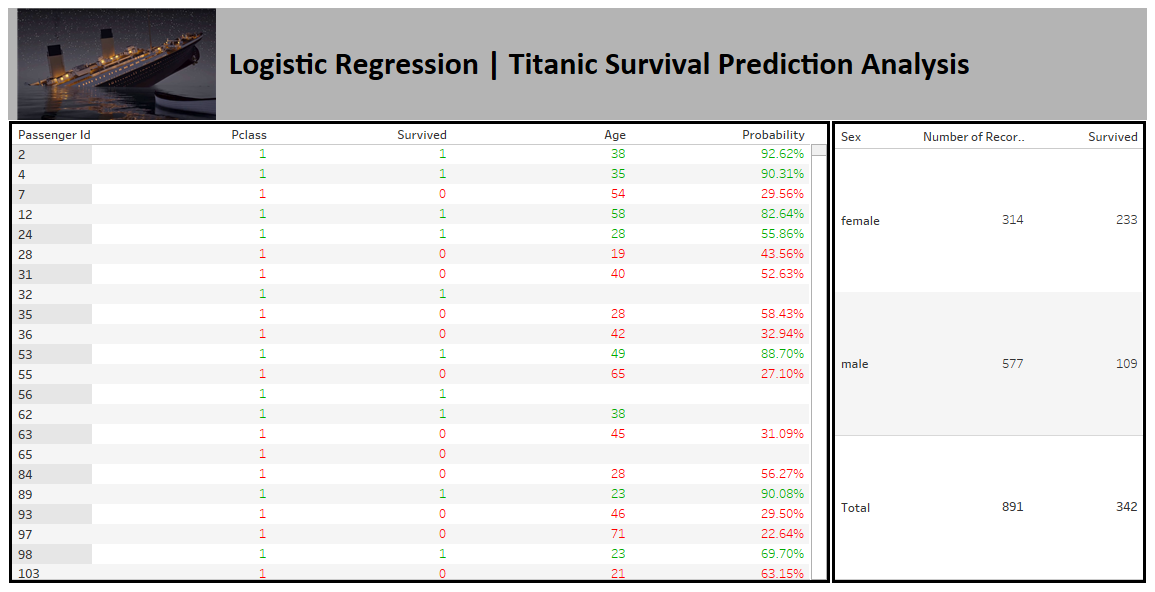

This screenshot's page, from the dashboard's own definition file:
{"tool":"tableau","page":{"name":"Logistic Regression","canvas":[1000,1000],"units":"permille","ordinal":0},"visuals":[{"type":"image","param":"Image/titanic.jpg","box":[6.9,13.5,189.1,188.4]},{"type":"text","box":[196,13.5,797,188.4]},{"type":"worksheet","title":"Model","mark":"Automatic","rows":["PassengerId"],"box":[6.9,201.9,712.6,784.6]},{"type":"worksheet","title":"Male & Female Passengers","mark":"Automatic","rows":["Sex"],"box":[719.5,201.9,273.6,784.6]}]}

Visuals, with their boxes on the dashboard's canvas, which has no fixed pixel size, in thousandths of its width and height (x1, y1, x2, y2). These are canvas units, not pixel positions in the 1155x592 screenshot, which may show the page scaled, cropped or inside an application window:
image: box(7, 14, 196, 202)
text: box(196, 14, 993, 202)
"Model" worksheet: box(7, 202, 720, 986)
"Male & Female Passengers" worksheet: box(720, 202, 993, 986)
